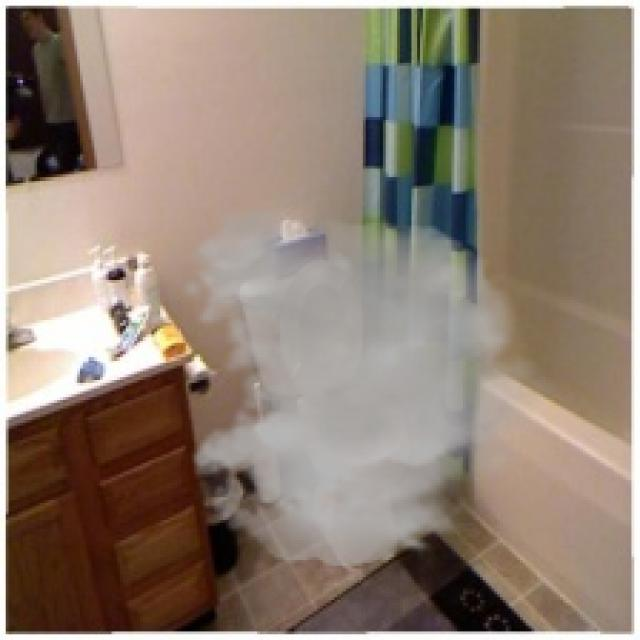smoke: (180, 205, 566, 566)
